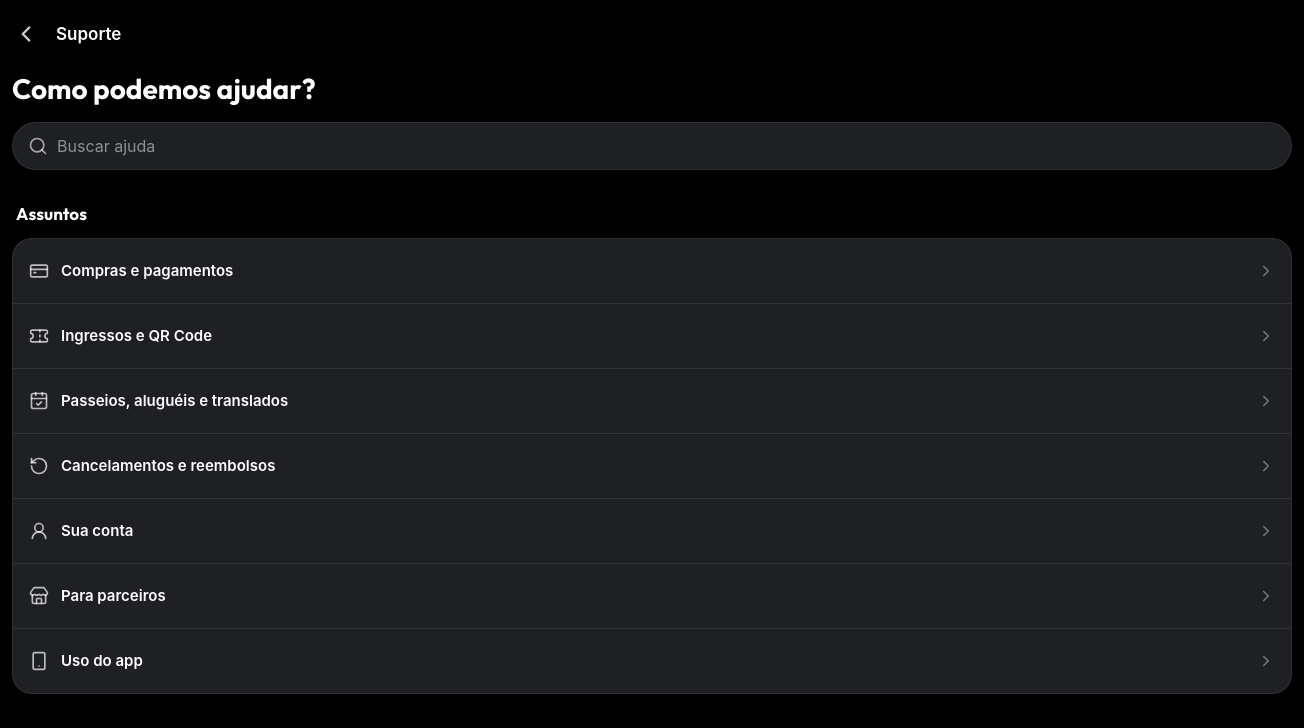
Scenario: SupportView › assunto abre a própria lista e a resposta
Click the button "Sua conta": click(97, 530) [13, 499, 1291, 563]
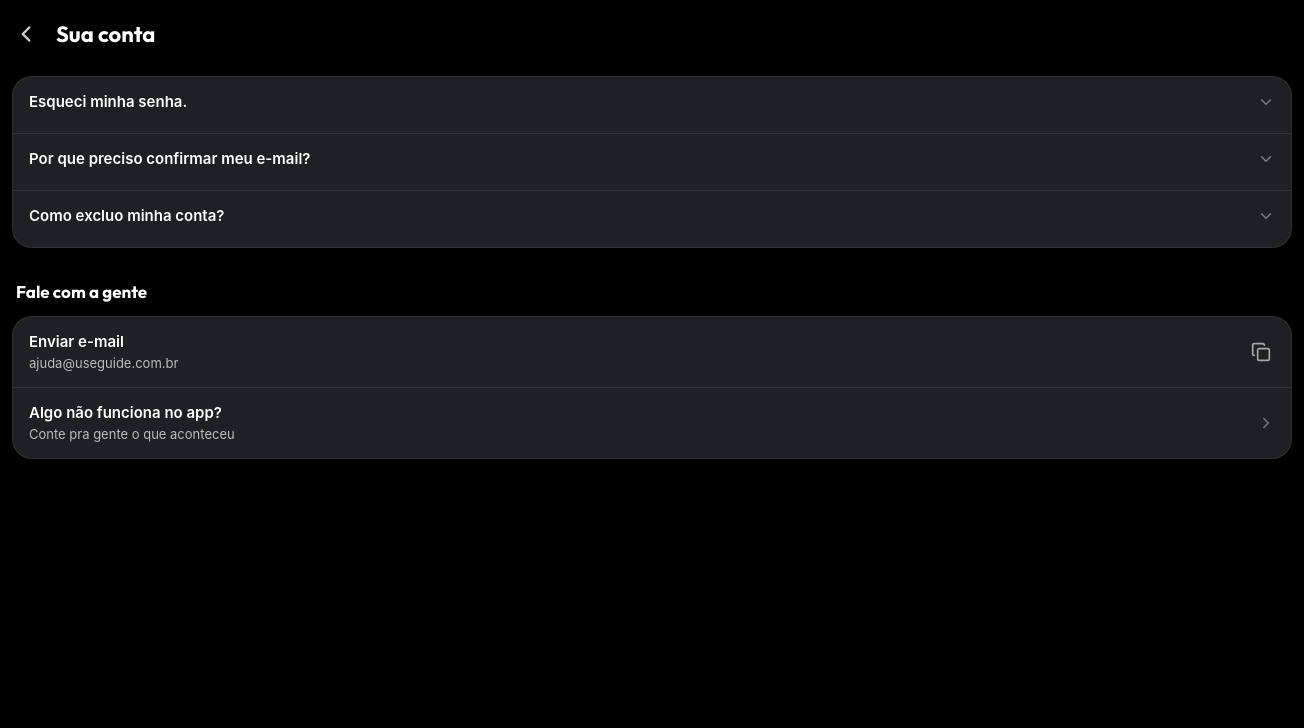
Click the button "Esqueci minha senha.": click(108, 102) [13, 77, 1291, 133]
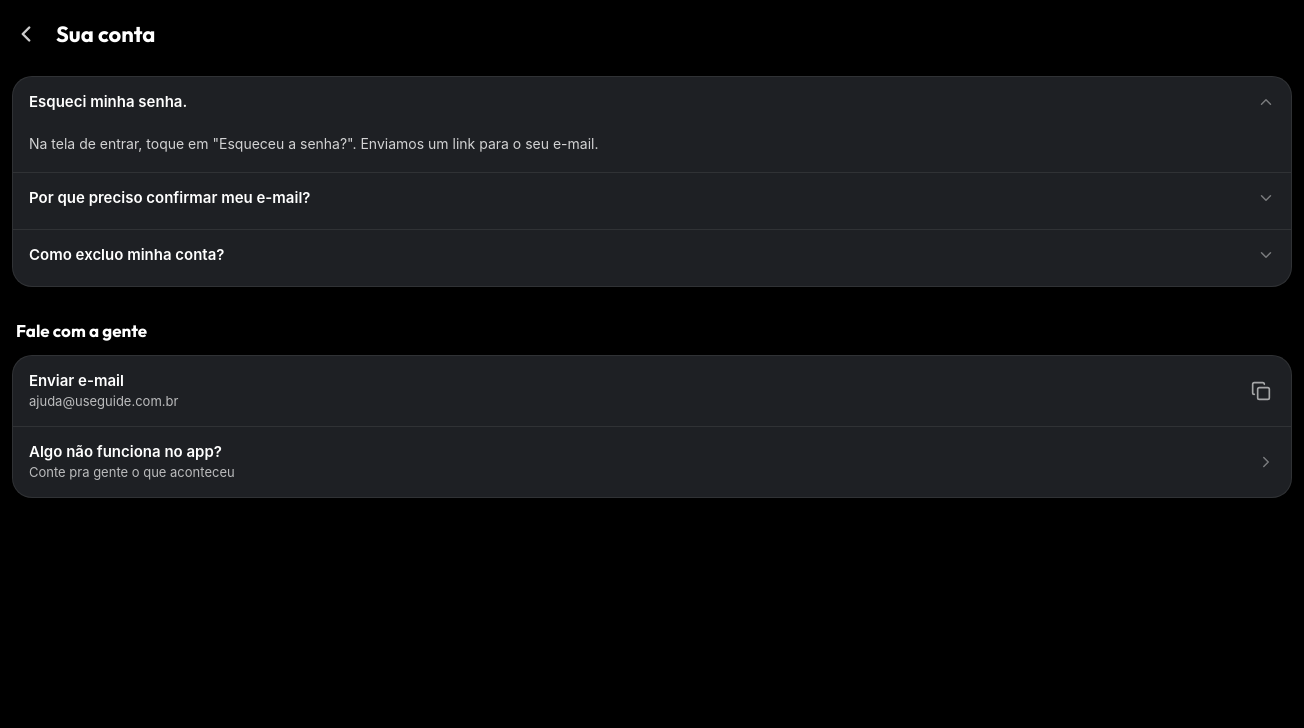
Now the button "Esqueci minha senha." is expanded, box [13, 77, 1291, 133]
Now the text "Esqueceu a senha?" is shown, box [29, 135, 598, 152]
